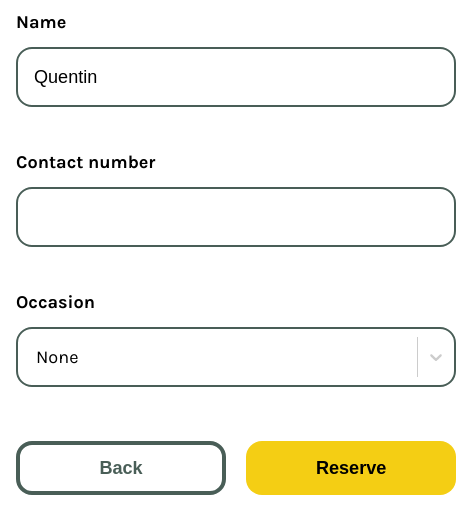
Test: BookingFormStepTwo › SHOULD produce name error message WHEN phoneNumber input value is NOT valid
The width and height of the screenshot is (473, 512).
Click the button "Reserve" at (351, 468), box left=246, top=441, right=456, bottom=495
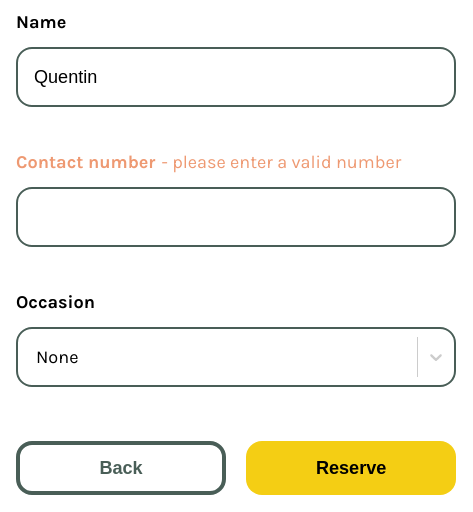
Expected: the text "please enter a valid number" is shown, left=162, top=151, right=401, bottom=173
